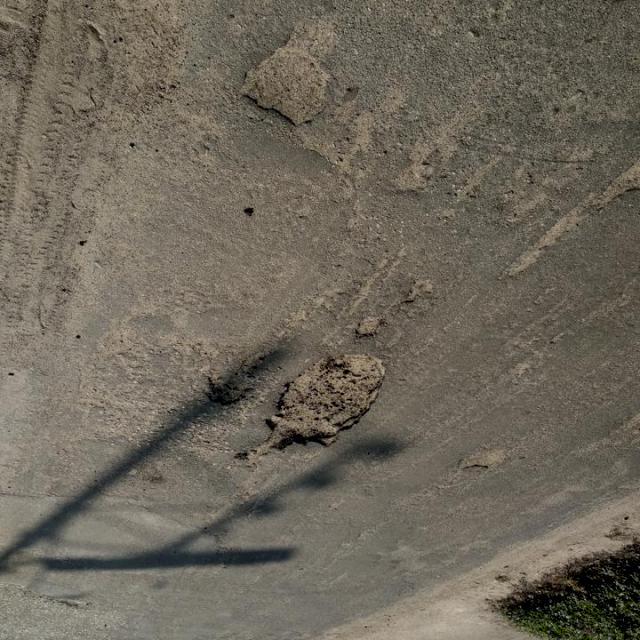pothole: (239, 351, 392, 465), (236, 23, 340, 132), (206, 349, 270, 409), (596, 158, 640, 214), (455, 446, 508, 475)
